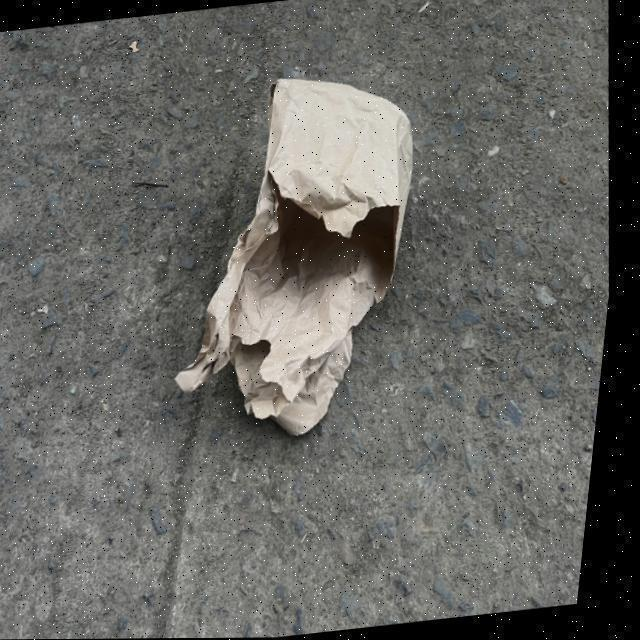Paper_Bag: (146, 63, 450, 450)
